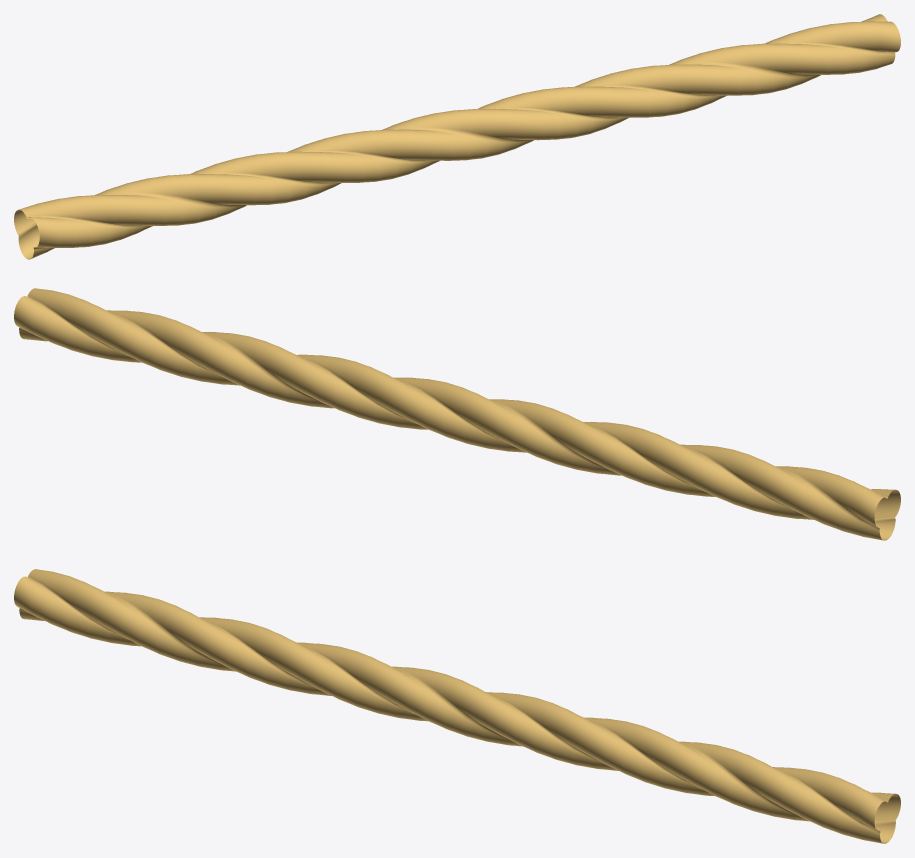
The model's file is tali.glb.
The picture shows the model from 3 angles, top to bottom: view 1: azimuth 30°, elevation 25°; view 2: azimuth 150°, elevation 25°; view 3: azimuth 330°, elevation 25°; orthographic projection.
Visible parts, largest first — view 1: Circle; view 2: Circle; view 3: Circle.
Part boxes in pixels (bbox=[...]): Circle: bbox=[14, 14, 900, 259]; Circle: bbox=[14, 288, 900, 540]; Circle: bbox=[14, 569, 900, 843].
Size of the model in its own units: 3 by 0.2024 by 0.1829.
